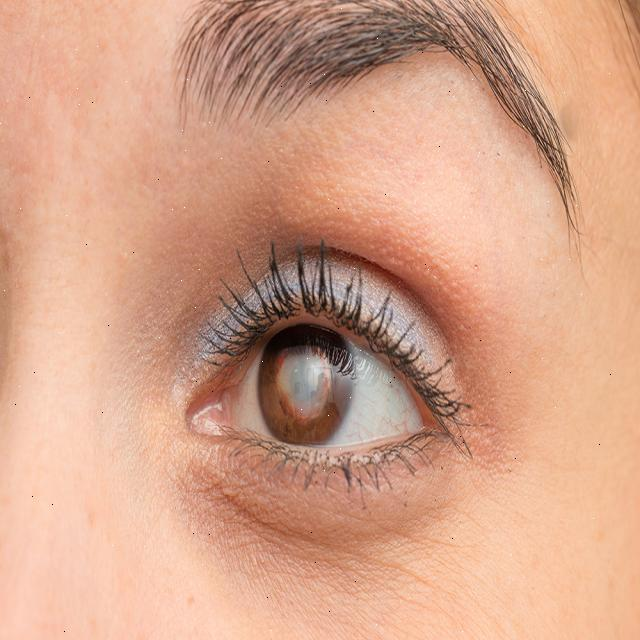Cataract: (256, 300, 353, 455)
